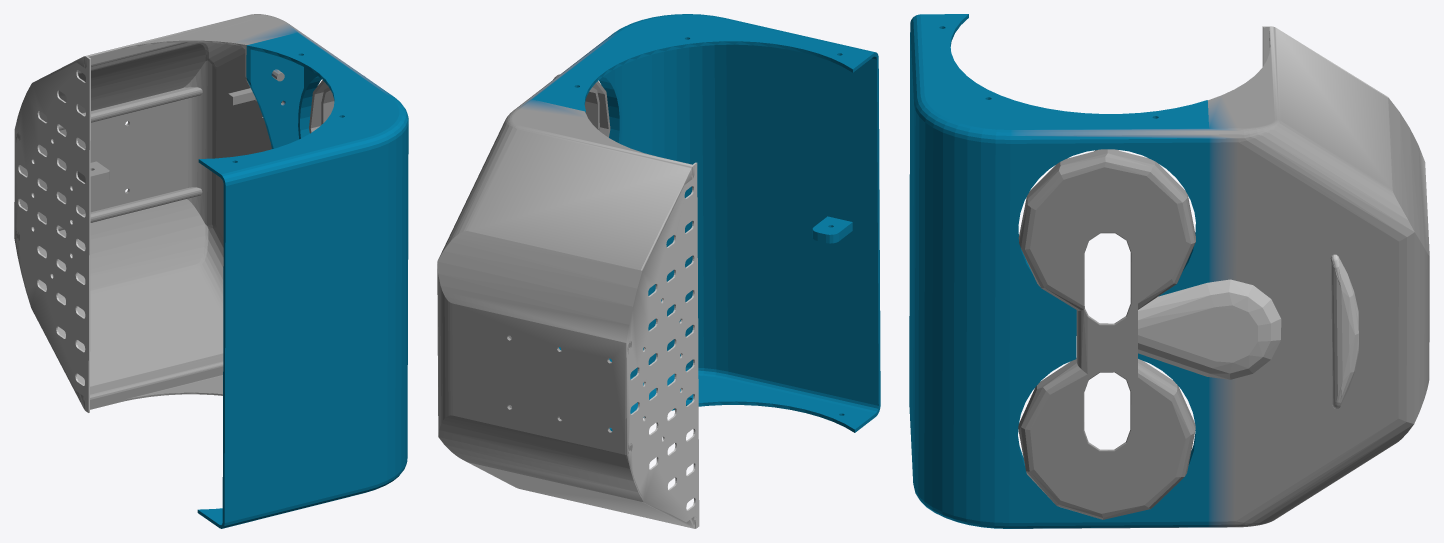
The model's file is head.obj.
3 views of the same model, side by side, from view 1: azimuth 30°, elevation 25°; view 2: azimuth 150°, elevation 25°; view 3: azimuth 270°, elevation 25° (orthographic). The views are drawn at different scales.
Size of the model in its own units: 0.1599 by 0.2332 by 0.2745.
